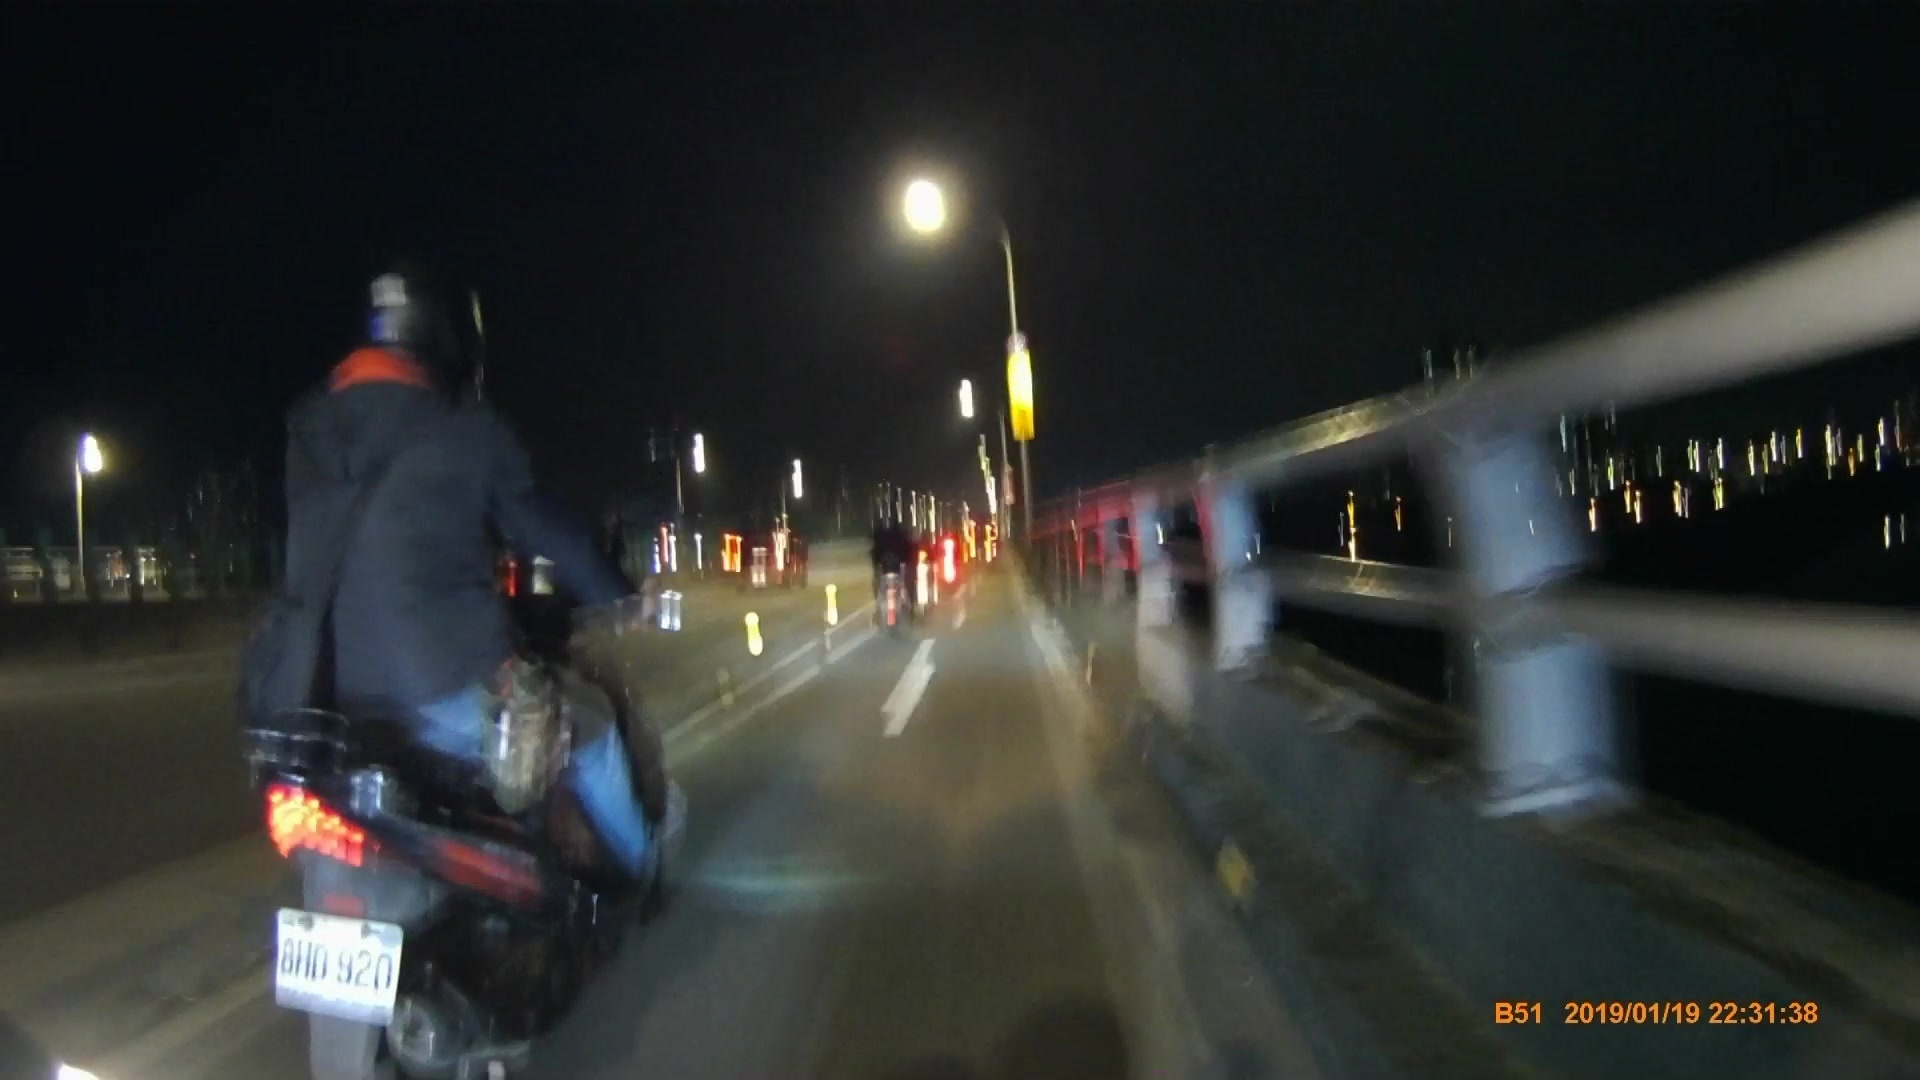License_plate: (277, 905, 402, 1020)
